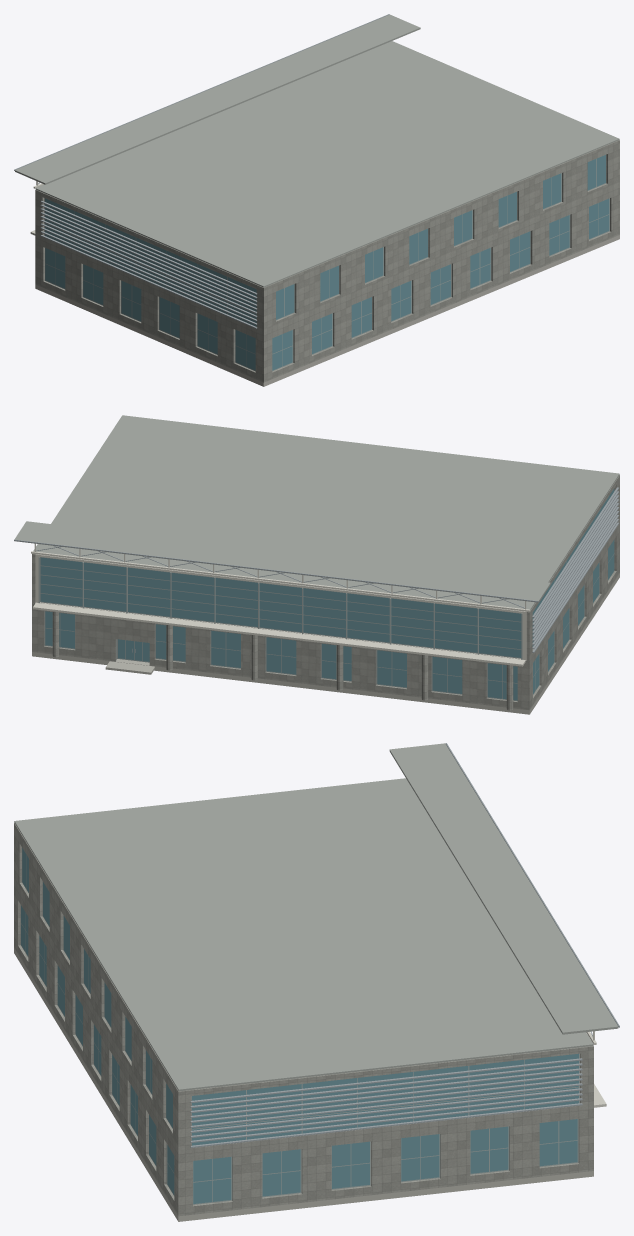
3 renders of one model, top to bottom at view 1: azimuth 30°, elevation 25°; view 2: azimuth 150°, elevation 25°; view 3: azimuth 270°, elevation 25°, orthographic. The views are drawn at different scales.
Parts seen in each view (by area): view 1: gym__roof, gym__stone, gym__glass, gym__metal, gym__frame, gym__threshold-entry; view 2: gym__roof, gym__glass, gym__stone, gym__white, gym__frame, gym__metal, gym__threshold-entry; view 3: gym__roof, gym__stone, gym__glass, gym__metal, gym__threshold-entry, gym__frame.
Boxes of the visible parts, left/top/right/bottom form: gym__roof: left=15, top=14, right=619, bottom=287; gym__stone: left=35, top=140, right=619, bottom=382; gym__glass: left=45, top=155, right=609, bottom=370; gym__metal: left=14, top=14, right=389, bottom=328; gym__frame: left=44, top=155, right=609, bottom=371; gym__threshold-entry: left=35, top=235, right=619, bottom=386; gym__roof: left=14, top=415, right=619, bottom=610; gym__glass: left=40, top=488, right=614, bottom=700; gym__stone: left=32, top=475, right=619, bottom=710; gym__white: left=31, top=543, right=530, bottom=666; gym__frame: left=38, top=543, right=614, bottom=701; gym__metal: left=14, top=487, right=619, bottom=652; gym__threshold-entry: left=32, top=573, right=619, bottom=714; gym__roof: left=14, top=743, right=618, bottom=1091; gym__stone: left=14, top=823, right=593, bottom=1216; gym__glass: left=21, top=848, right=578, bottom=1203; gym__metal: left=190, top=743, right=619, bottom=1147; gym__threshold-entry: left=14, top=948, right=593, bottom=1221; gym__frame: left=20, top=848, right=579, bottom=1204.
Size of the model in its own units: 61.37 by 13.7 by 48.53.
Materials: 8 (1 with a texture image).
